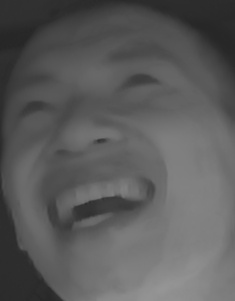eye: (112, 68, 159, 96), (16, 96, 57, 122)
mouth: (40, 165, 161, 239)
